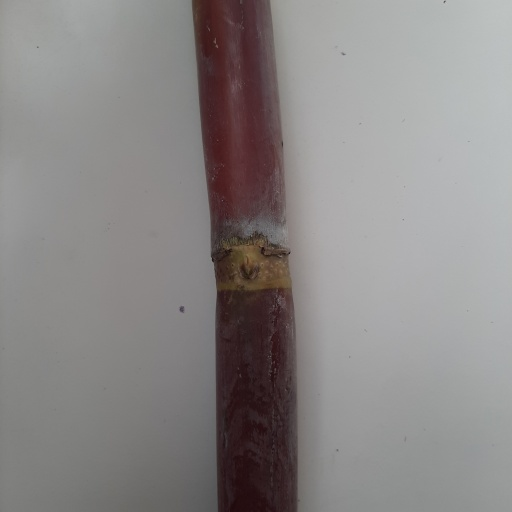Bud: (236, 255, 260, 282)
